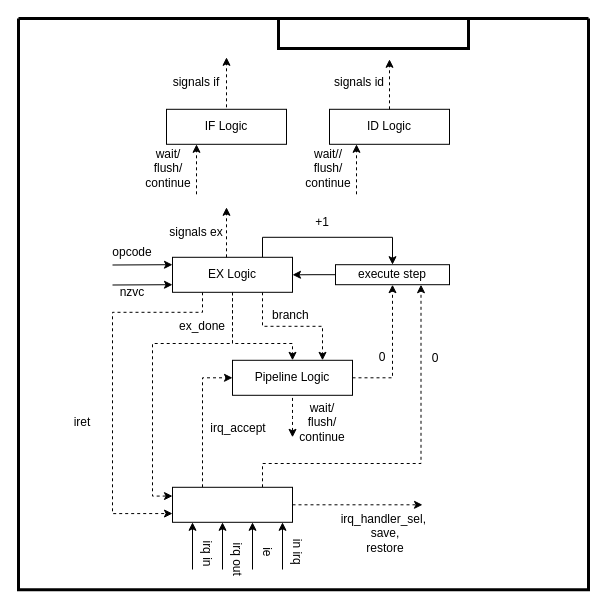
Some shapes in this 607 by 609 pixel diagram are drawn without their labels. Here are the shapes that lost their labels. From the top down, the box of each, then its label:
(276, 16, 470, 50): CONTROL UNIT
(172, 486, 292, 522): Interrupt Logic
